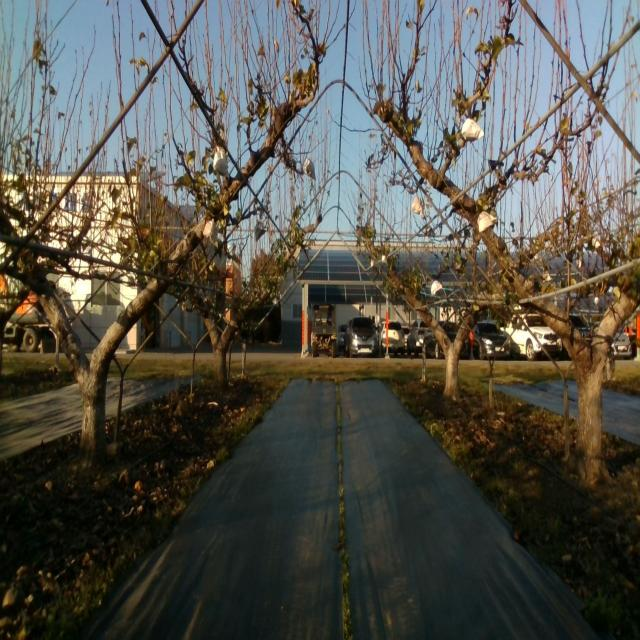pearbags: (462, 115, 485, 144), (212, 145, 228, 175), (477, 211, 498, 233), (203, 218, 218, 244), (254, 218, 266, 243), (303, 157, 316, 180), (411, 194, 424, 215)
